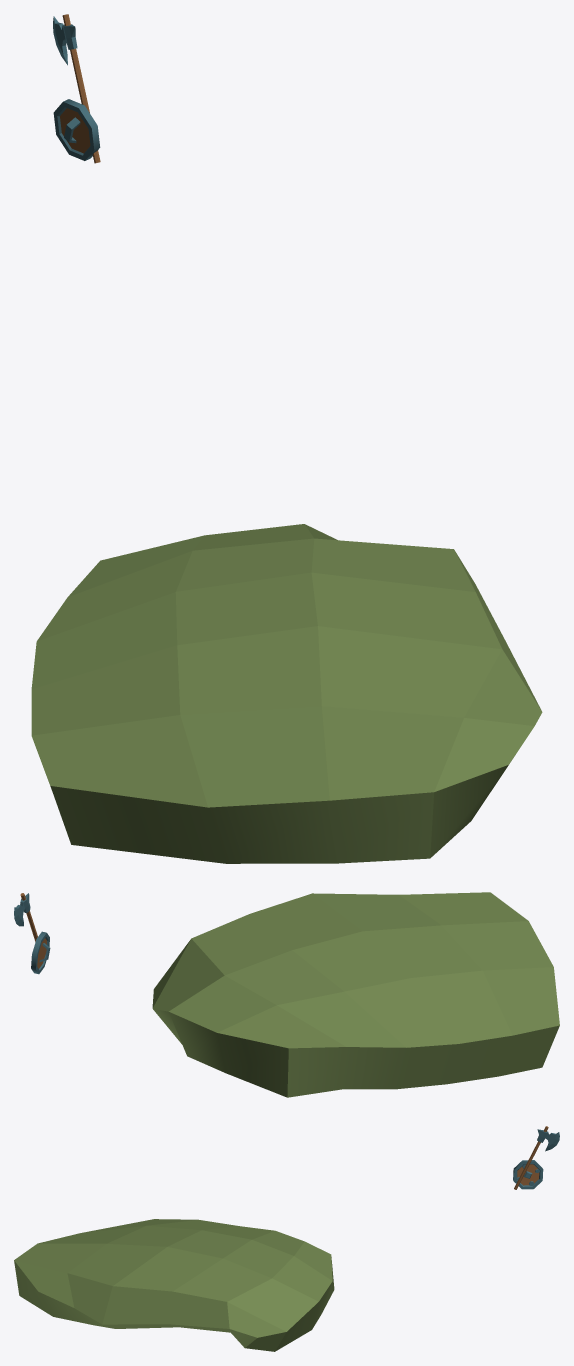
3 renders of one model, top to bottom at view 1: azimuth 30°, elevation 25°; view 2: azimuth 150°, elevation 25°; view 3: azimuth 270°, elevation 25°, orthographic. The views are drawn at different scales.
Parts seen in each view (by area): view 1: Plane074_green3_0, Cylinder1558_metal_0; view 2: Plane074_green3_0, Cylinder1558_metal_0, Plane264_metal_0; view 3: Plane074_green3_0, Cylinder1558_metal_0, Plane264_metal_0.
Part boxes in pixels (<box>): Plane074_green3_0: <box>31,524,542,863</box>; Cylinder1558_metal_0: <box>53,99,100,160</box>; Plane074_green3_0: <box>152,892,559,1097</box>; Cylinder1558_metal_0: <box>31,931,50,974</box>; Plane264_metal_0: <box>14,893,30,926</box>; Plane074_green3_0: <box>14,1219,334,1351</box>; Cylinder1558_metal_0: <box>513,1160,543,1189</box>; Plane264_metal_0: <box>537,1129,559,1151</box>.
Bounding box in the file's own units: 737 × 633 × 1389.
